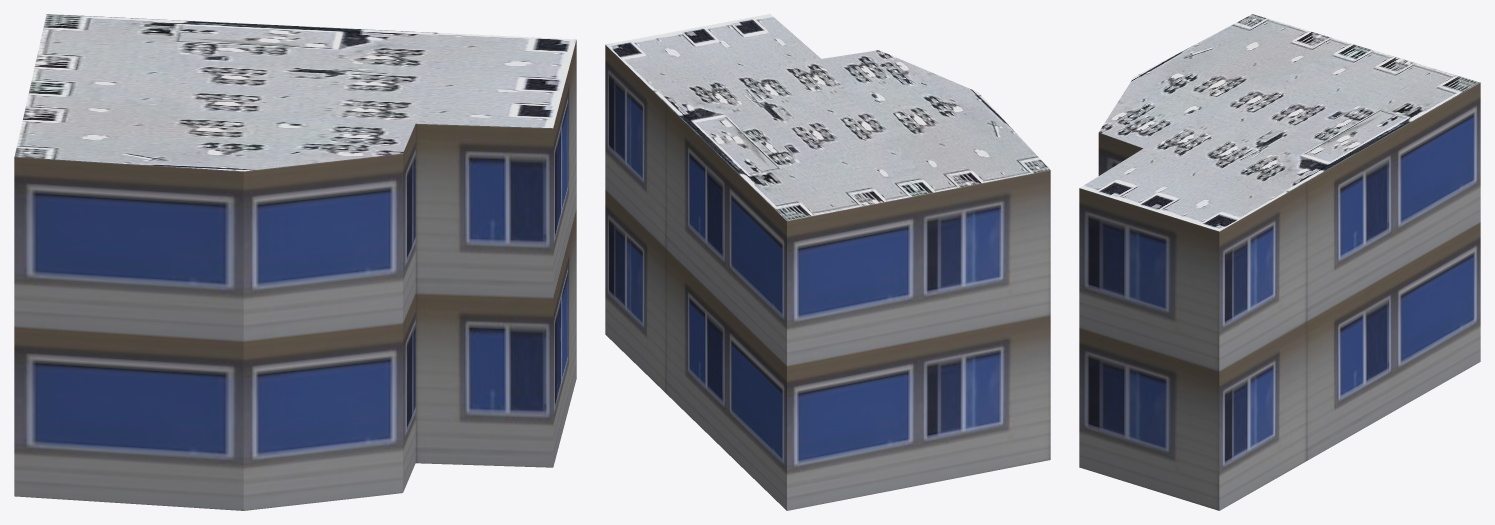
Rendered from ResTex__4322.fbx.
3 renders of one model, left to right at view 1: azimuth 30°, elevation 25°; view 2: azimuth 150°, elevation 25°; view 3: azimuth 270°, elevation 25°, orthographic. The views are drawn at different scales.
Parts seen in each view (by area): view 1: CityEngineMaterial_23_m, CityEngineMaterial_2_m; view 2: CityEngineMaterial_23_m, CityEngineMaterial_2_m; view 3: CityEngineMaterial_23_m, CityEngineMaterial_2_m.
Part boxes in pixels (box(x1,y1,x2,y2)): CityEngineMaterial_23_m: box(14, 40, 576, 510); CityEngineMaterial_2_m: box(14, 14, 576, 171); CityEngineMaterial_23_m: box(605, 45, 1050, 510); CityEngineMaterial_2_m: box(605, 14, 1049, 220); CityEngineMaterial_23_m: box(1079, 82, 1480, 510); CityEngineMaterial_2_m: box(1080, 14, 1479, 231).
Bounding box in the file's own units: 10.02 × 6 × 7.81.
2 materials, 2 textured.
